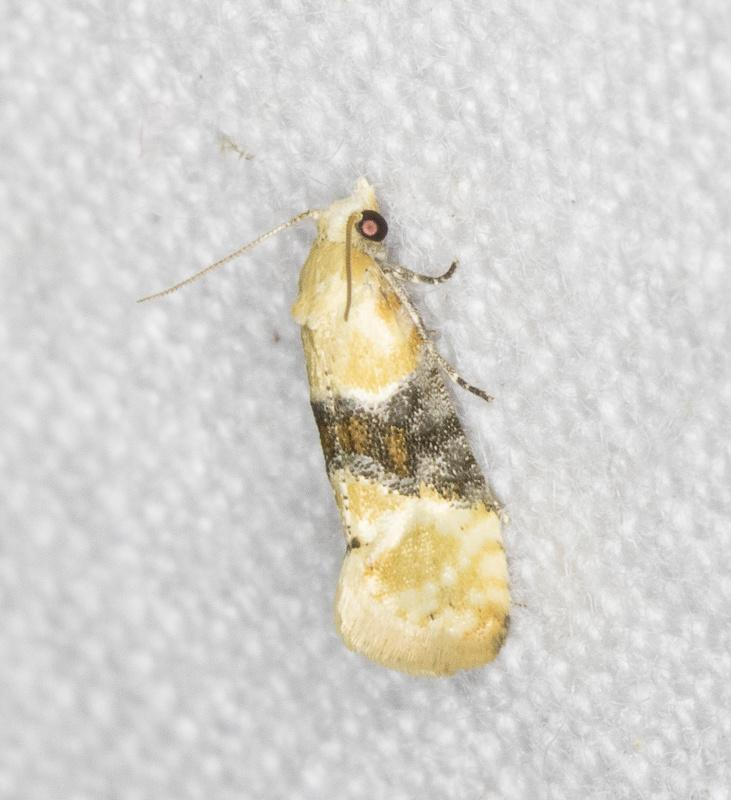Eupoecilia Ambiguella: (134, 174, 516, 679)
